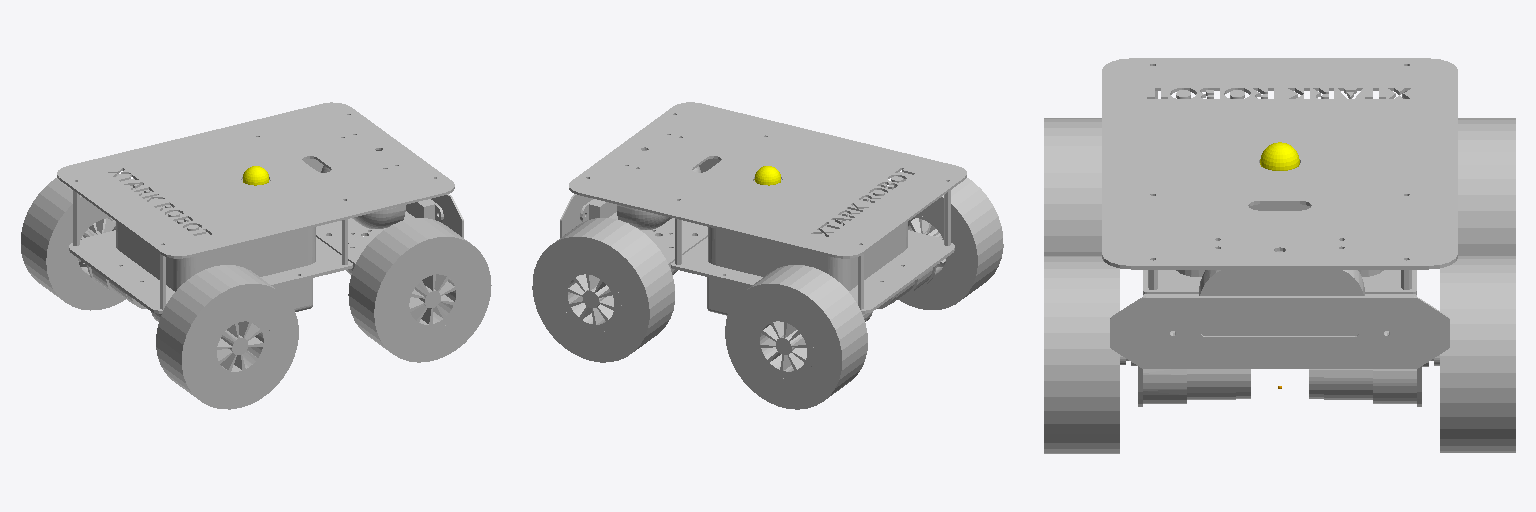
robot.urdf — xtark_robot:
<?xml version="1.0" encoding="utf-8"?>

<robot name="xtark_robot">

    <!-- 机器人底部中心原点 -->
    <link name="base_footprint">
        <visual>
            <geometry>
                <sphere radius="0.001" />
            </geometry>
        </visual>
    </link>

    <!-- 机器人底盘 -->
    <link name="base_link">
        <visual>
            <geometry>
                <mesh filename="package://xtark_description/meshes/base_r20_fwd.stl" />
            </geometry>
            <origin xyz="0 0 0" rpy="0 0 0" />
            <material name="base_color">
                <!-- <color rgba="0.000 0.500 0.500 1" /> -->
                <!-- <color rgba="0.000 0.000 1.000 1" /> -->
                <!-- <color rgba="1.000 0.500 0.000 1" /> -->
                <color rgba="0.800 0.800 0.800 1" />
            </material>
        </visual>
    </link>    

    <!-- 机器人雷达 -->
    <link name="laser_link">
        <visual>
            <geometry>
                <mesh filename="package://xtark_description/meshes/laser.stl" />
            </geometry>
            <origin xyz="0 0 -0.06" rpy="0 0 0" />
            <material name="laser_color">
                <color rgba="0.4 0.4 0.4 1" />
            </material>
        </visual>
    </link> 

    <!-- 机器人摄像头 -->
    <link name="camera_link">
        <visual>
            <geometry>
                <mesh filename="package://xtark_description/meshes/depthcamera.stl" />
            </geometry>
            <origin xyz="-0.037 0 0" rpy="0 0 0" />
            <material name="camera_color">
                <color rgba="0.15 0.15 0.15 1" />
            </material>
        </visual>
    </link>

    <!-- 机器人IMU传感器 -->
    <link name="imu_link">
        <visual>
            <geometry>
                <sphere radius="0.010" />
            </geometry>
            <origin xyz="0 0 0" rpy="0 0 0" />
            <material name="imu_color">
                <color rgba="1 1 0 1" />
            </material>
        </visual>
    </link>

    <!-- 底盘与原点连接的关节 -->
    <joint name="baselink2footprint" type="fixed">
        <origin xyz="0 0 0.1255" rpy="0 0 0"/>
        <parent link="base_footprint" />
        <child  link="base_link" />
    </joint>

    <!-- 雷达到与底盘连接的关节 -->
    <joint name="laser2base" type="fixed">
        <origin xyz="0 0 0.06" rpy="0 0 0"/>
        <parent link="base_link" />
        <child  link="laser_link" />
    </joint>

    <!-- 深度摄像头与底盘连接的关节 -->
    <joint name="camera2base" type="fixed">
        <origin xyz="0.105 0 0.0285" rpy="0 0 0"/>
        <parent link="base_link" />
        <child  link="camera_link" />
    </joint>

    <!-- IMU传感器与底盘连接的关节 -->
    <joint name="imu2base" type="fixed">
        <origin xyz="0 0 0" rpy="0 0 0"/>
        <parent link="base_link" />
        <child  link="imu_link" />
    </joint>

</robot>

--- Facts derived from the render (not from the file) ---
3 views of the same robot in one strip: view 1: azimuth 30°, elevation 25°; view 2: azimuth 150°, elevation 25°; view 3: azimuth 270°, elevation 25° (orthographic).
Robot: xtark_robot — 5 links, 4 joints (4 fixed); root link base_footprint; default pose: every joint at zero.
Visible links, largest first — view 1: base_link; view 2: base_link; view 3: base_link, imu_link.
Link boxes in pixels (x1=…): base_link: x1=21, y1=102, x2=491, y2=409; base_link: x1=532, y1=102, x2=1003, y2=409; base_link: x1=1044, y1=58, x2=1515, y2=453; imu_link: x1=1260, y1=142, x2=1299, y2=170.
Bounding box of the posed robot: 0.264 × 0.2378 × 0.1365 m (x, y, z).
Meshes: 3 distinct files referenced, 1 mesh visuals loaded (1 binary STL); not drawn: 2 (reference not matched to a file when rendering).